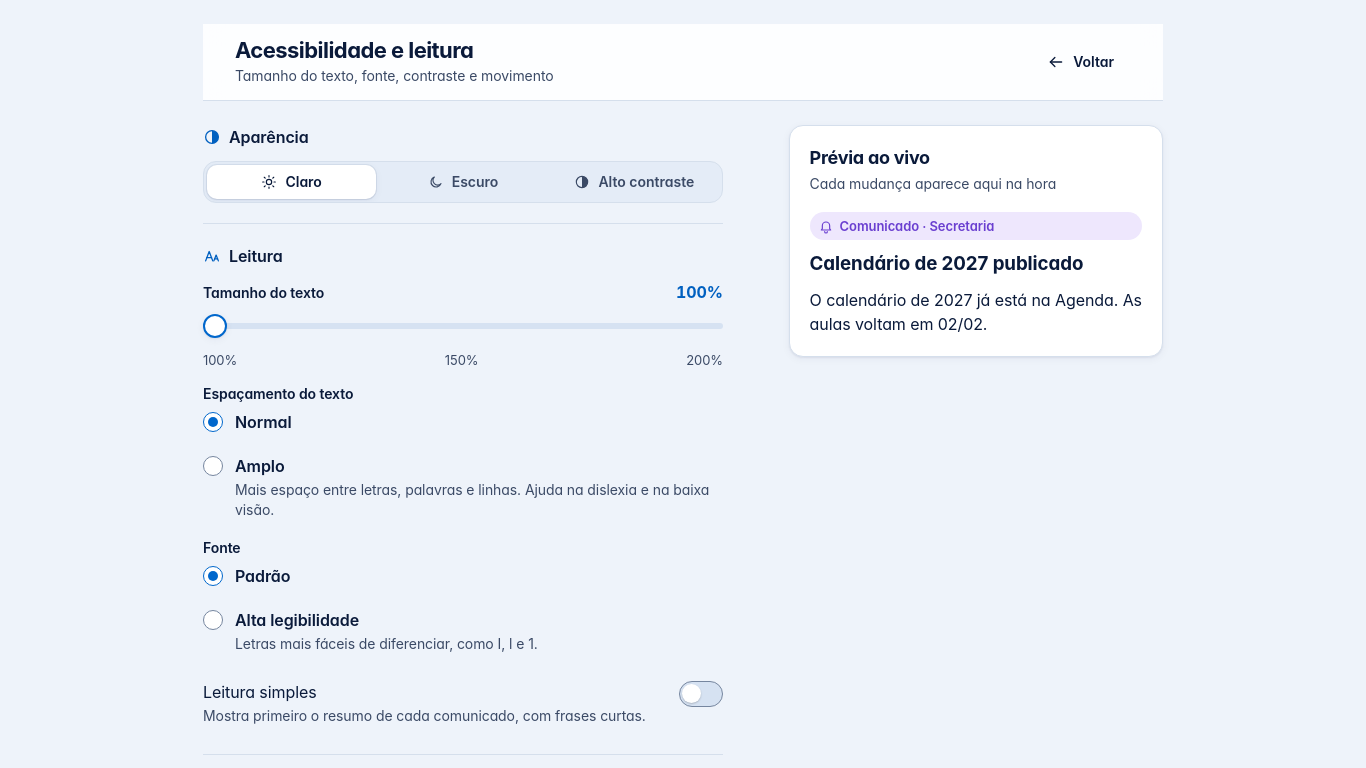
Test: PreferenciasPage › "Voltar" leva à escolha de perfil quando a página foi aberta direto
This screenshot has width=1366, height=768.
Step 1. Click the button "Voltar" → (1081, 62), box [1030,42,1131,82]
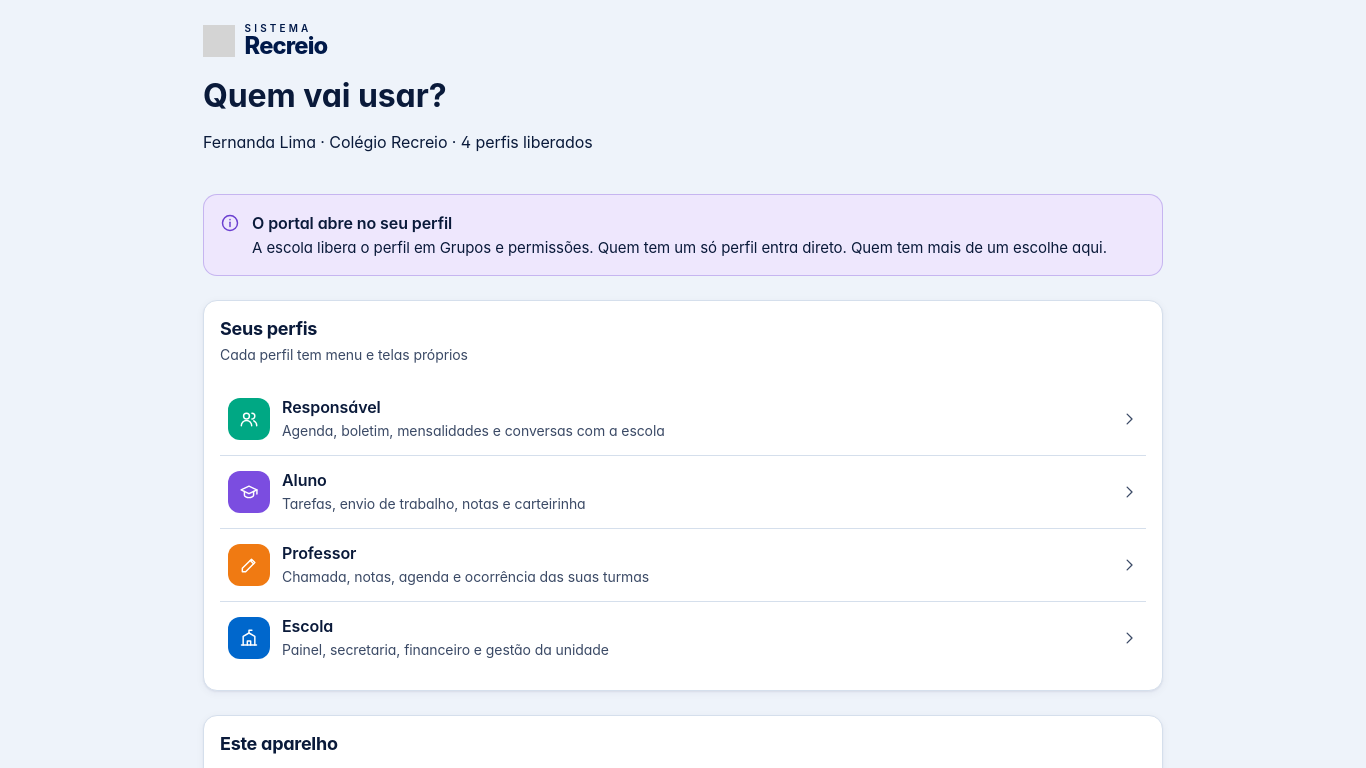
Expected: the heading "Quem vai usar?" is shown, [203,76,446,115]
